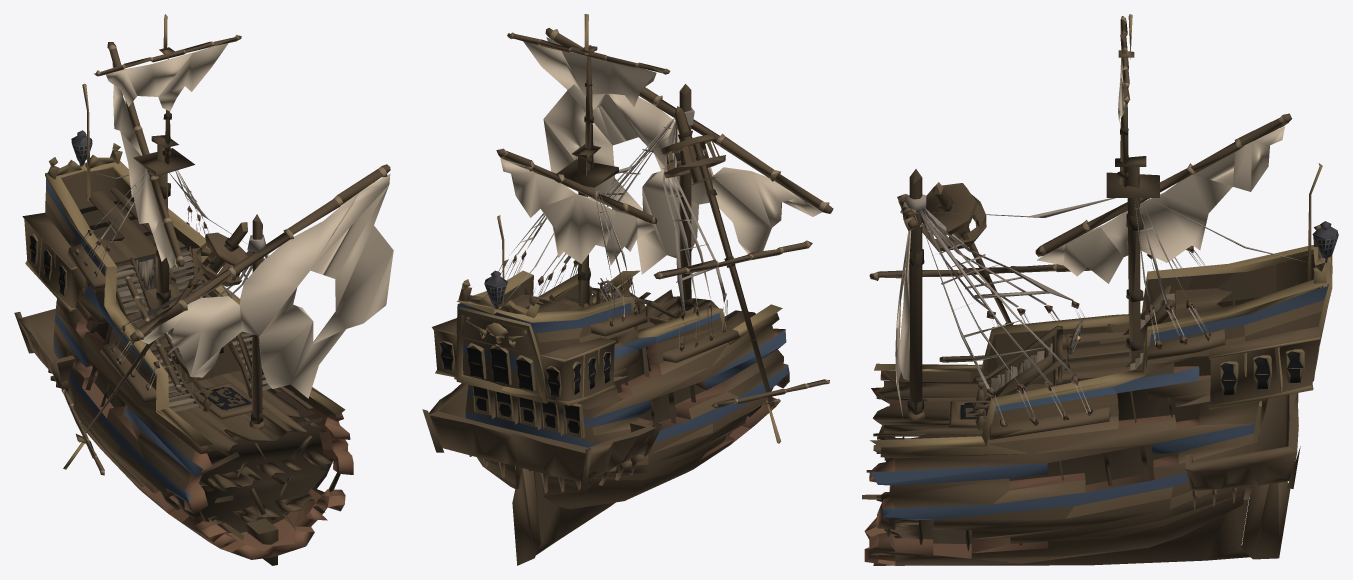
Rendered from ShipWreck_SOP.fbx.
The picture shows the model from 3 angles, left to right: view 1: azimuth 30°, elevation 25°; view 2: azimuth 150°, elevation 25°; view 3: azimuth 270°, elevation 25°; orthographic projection. The views are drawn at different scales.
Parts seen in each view (by area): view 1: Ship_Wreck; view 2: Ship_Wreck; view 3: Ship_Wreck.
Boxes of the visible parts, bbox=[...] form: Ship_Wreck: bbox=[14, 14, 393, 565]; Ship_Wreck: bbox=[422, 14, 833, 565]; Ship_Wreck: bbox=[862, 14, 1338, 565].
Size of the model in its own units: 14.54 by 23.44 by 18.41.
